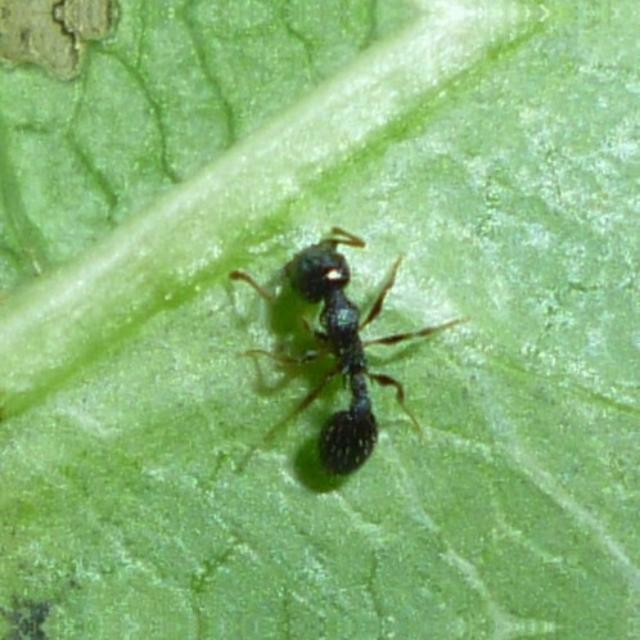Temnothorax: (238, 199, 467, 475)
